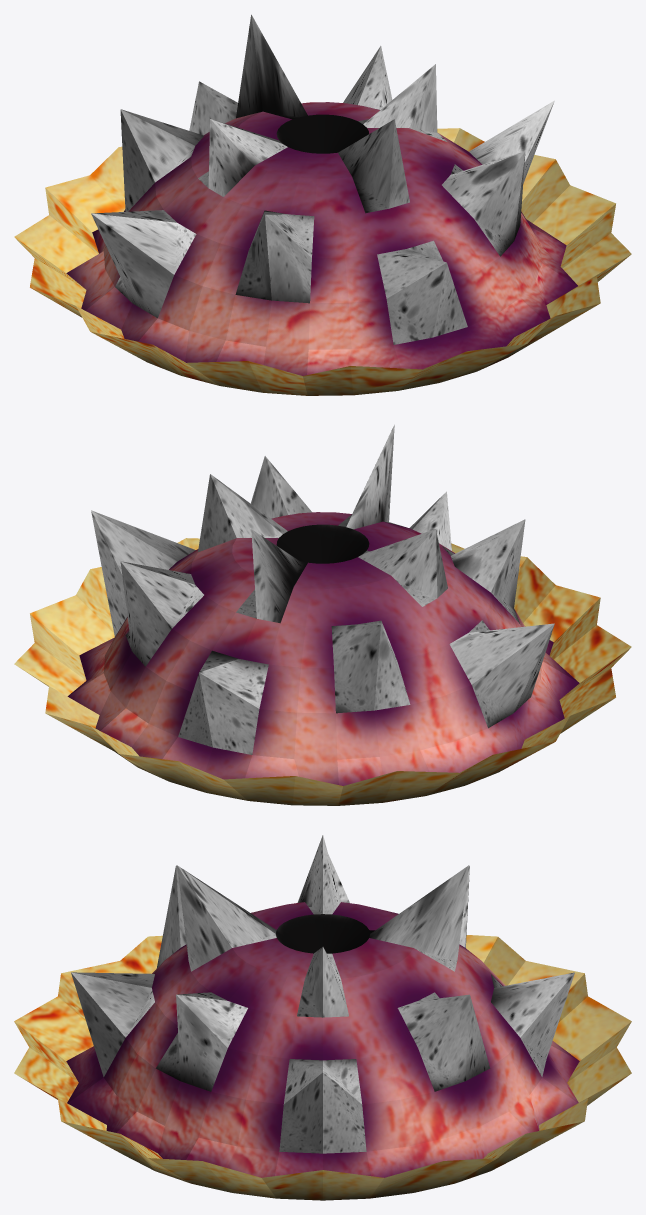
The model's file is Corals.fbx.
3 views of the same model, one above another, from view 1: azimuth 30°, elevation 25°; view 2: azimuth 150°, elevation 25°; view 3: azimuth 270°, elevation 25° (orthographic).
Visible parts, largest first — view 1: Corals; view 2: Corals; view 3: Corals.
Part boxes in pixels (x1,y1,x2,y2): Corals: [14, 14, 631, 395]; Corals: [14, 424, 631, 805]; Corals: [14, 835, 631, 1200].
Size of the model in its own units: 186 by 77.99 by 186.
